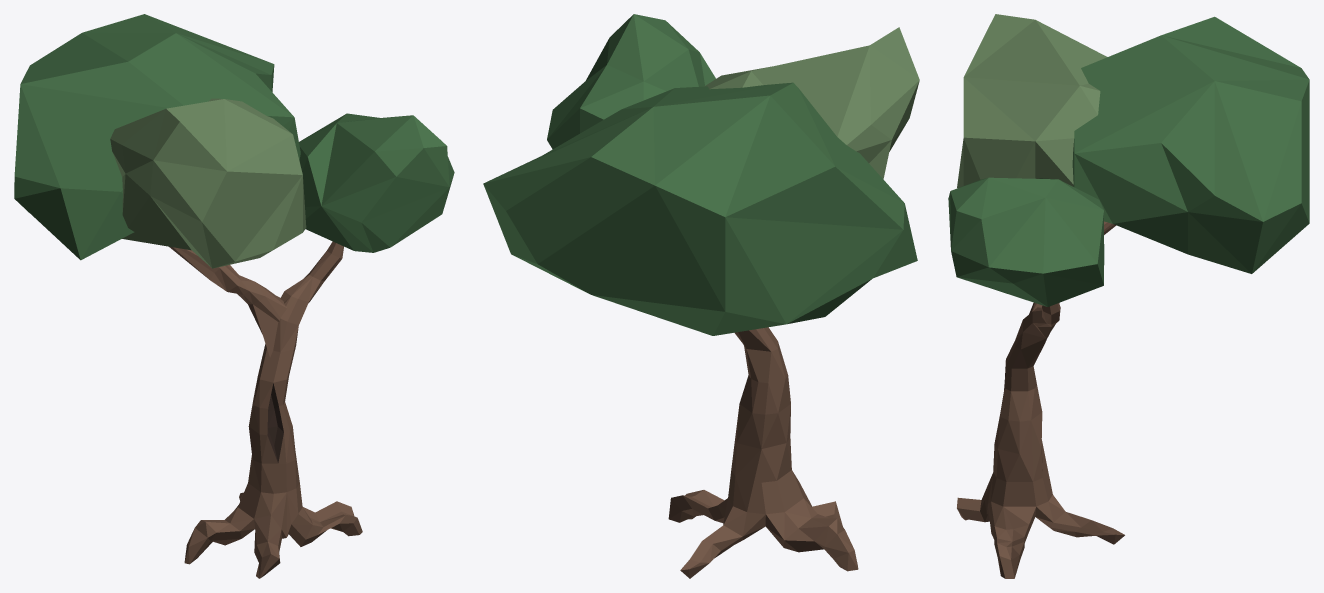
Rendered from _tree_3.fbx.
3 renders of one model, left to right at view 1: azimuth 30°, elevation 25°; view 2: azimuth 150°, elevation 25°; view 3: azimuth 270°, elevation 25°, orthographic. The views are drawn at different scales.
Parts seen in each view (by area): view 1: tree_3; view 2: tree_3; view 3: tree_3.
Boxes of the visible parts, <box> form: tree_3: <box>14,14,454,578</box>; tree_3: <box>483,14,919,578</box>; tree_3: <box>948,14,1309,578</box>.
Bounding box in the file's own units: 427 × 526 × 365.
